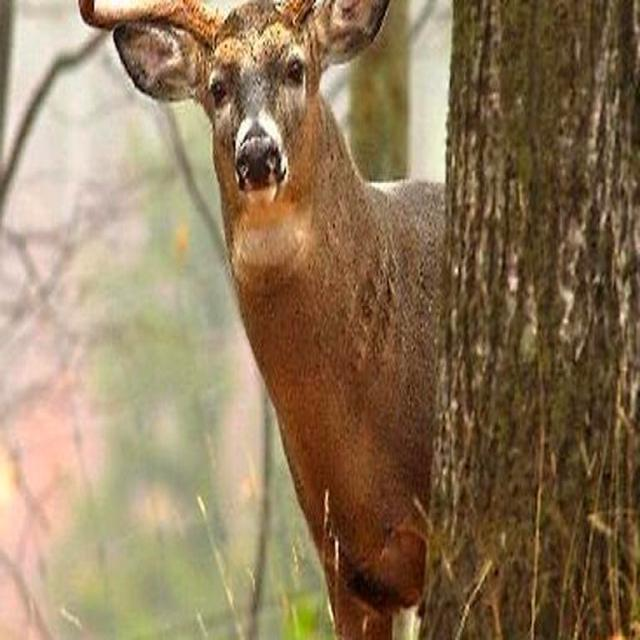deer: (79, 0, 442, 639)
